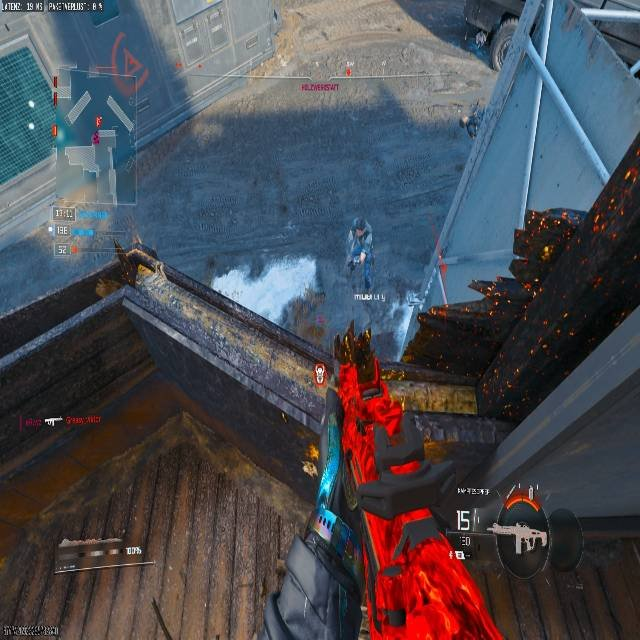player: (480, 279, 509, 319)
